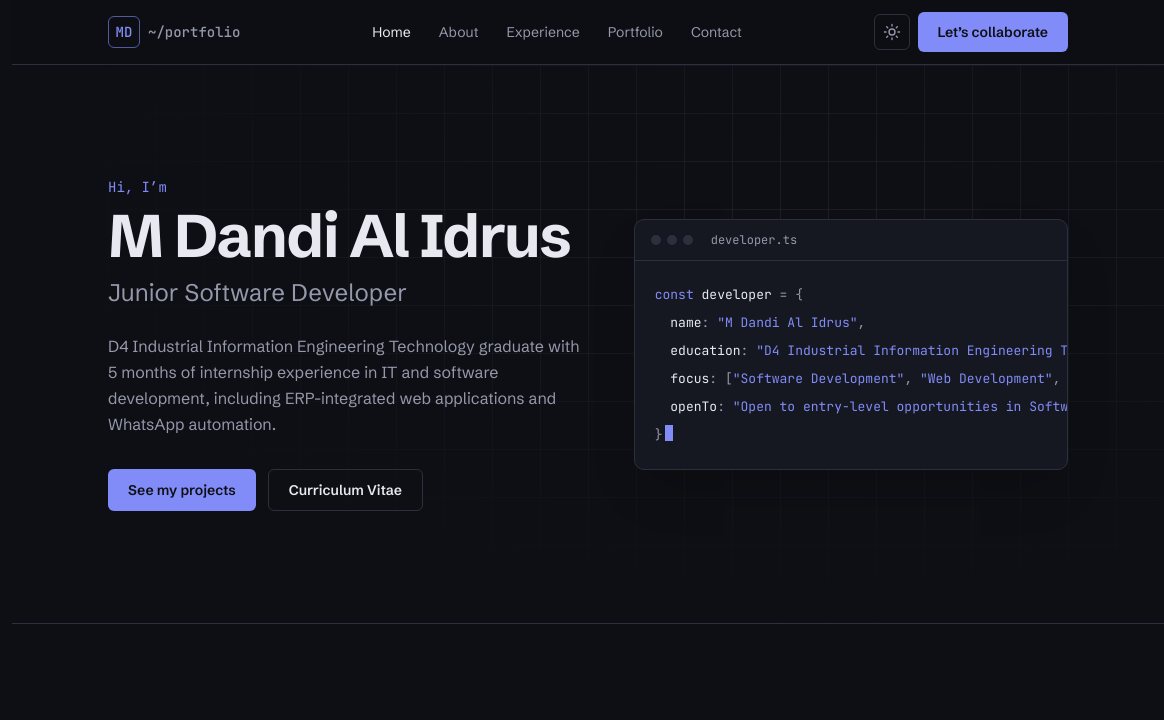
Test: home content › "See my projects" opens the Projects detail page; CV link is the PDF
Click the link "See my projects".
click(182, 490)  # box [108,469,256,511]
(page scrolled)
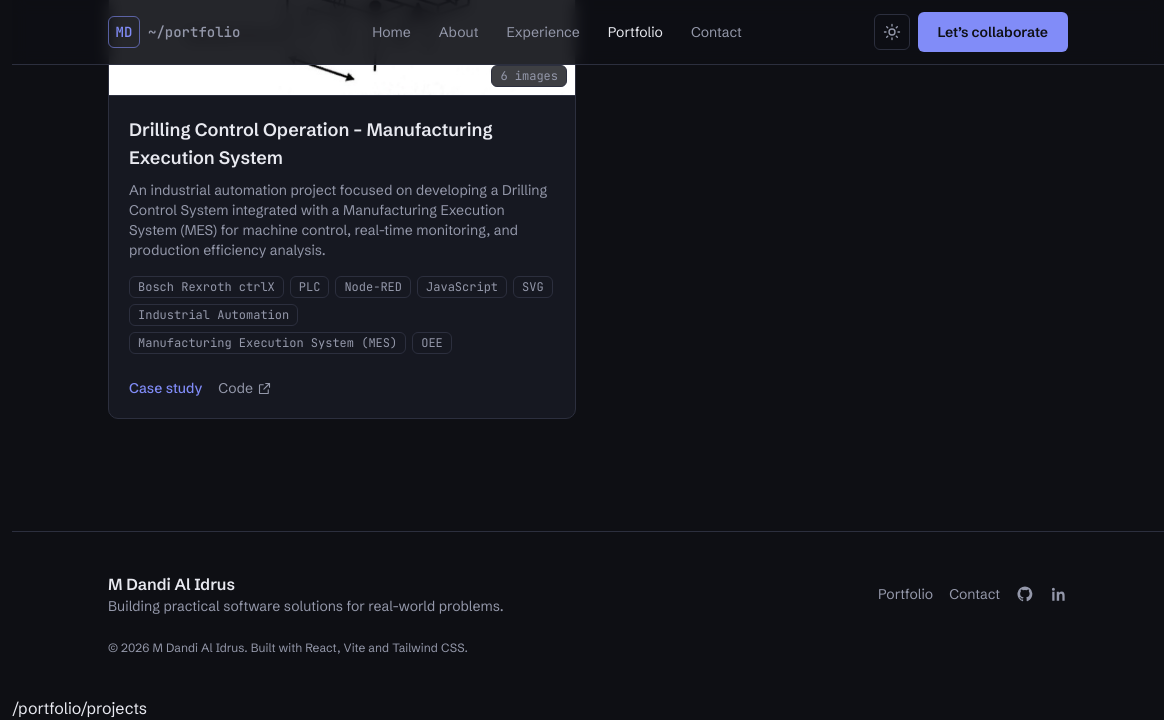
expect the text with test id "loc" reads "/portfolio/projects": met, box [12,698,147,718]
